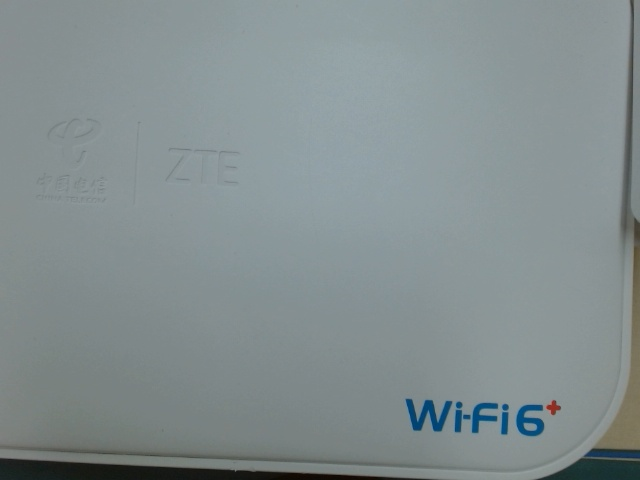AJ_ZTEWIFI6Plus: (392, 386, 564, 441)
